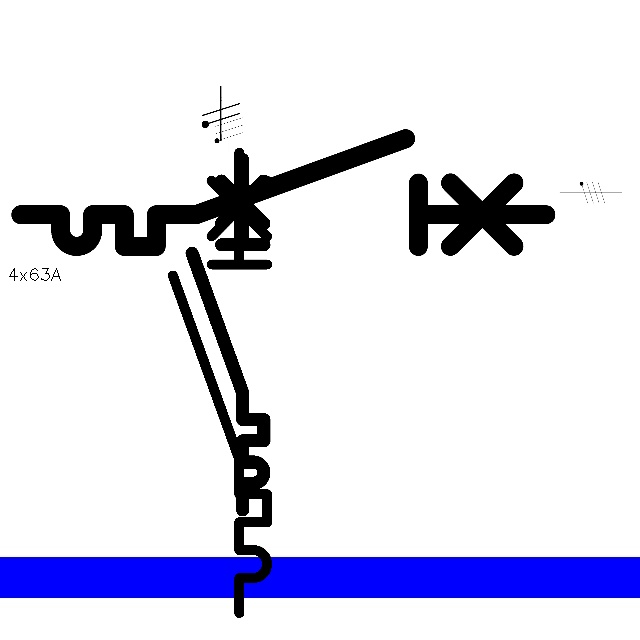interruptor_termomagnetico: (7, 125, 559, 260), (161, 140, 279, 624), (183, 150, 273, 518)
